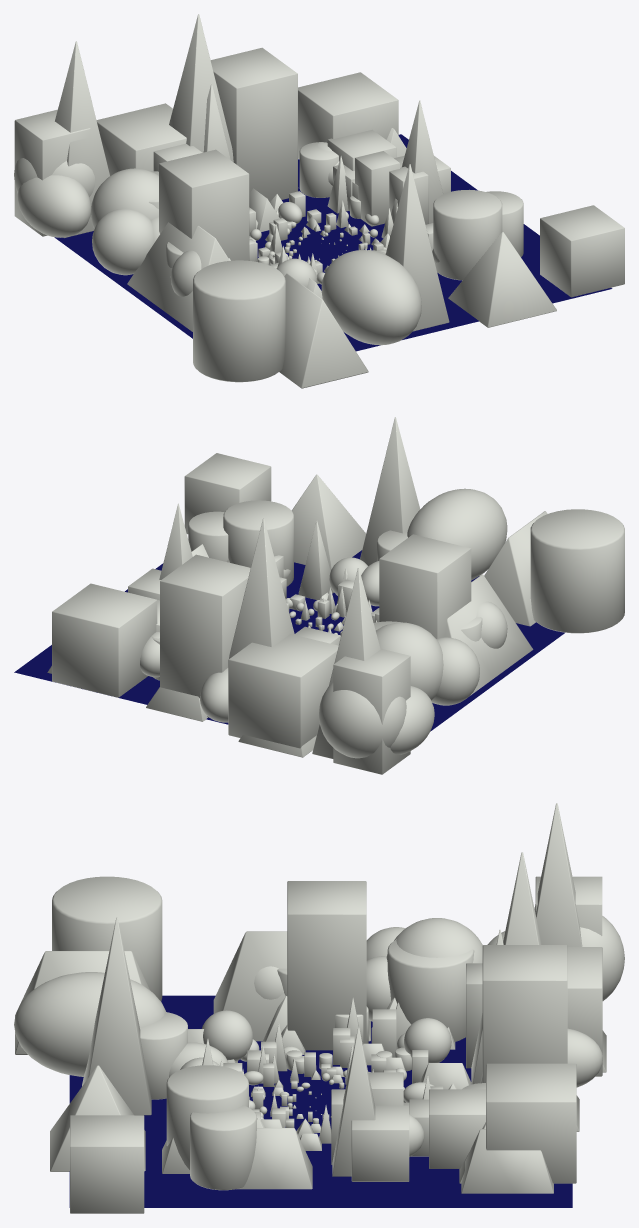
File: AbsShapes.fbx
The picture shows the model from 3 angles, top to bottom: view 1: azimuth 30°, elevation 25°; view 2: azimuth 150°, elevation 25°; view 3: azimuth 270°, elevation 25°; orthographic projection. The views are drawn at different scales.
Visible parts, largest first — view 1: Cylinder.022, Cube.095, Plane, Cube.130, Sphere.038, Cube.102, Cube.129, Cube.132, Cube.128, Cylinder.020, Cube.116, Cube.114 (+20 smaller); view 2: Cylinder.022, Cube.122, Cube.095, Cube.132, Cube.130, Sphere.038, Cube.120, Plane, Sphere.041, Cube.096, Cube.102, Cube.128 (+20 smaller); view 3: Plane, Cube.130, Cube.095, Cube.132, Cylinder.022, Sphere.038, Cube.102, Cube.116, Cylinder.021, Cylinder.023, Cube.114, Cylinder.020 (+29 smaller).
Boxes of the visible parts, <box> form: Cylinder.022: <box>193,260,285,382</box>; Cube.095: <box>210,47,297,201</box>; Plane: <box>54,134,612,351</box>; Cube.130: <box>159,149,249,260</box>; Sphere.038: <box>321,250,421,345</box>; Cube.102: <box>540,205,624,297</box>; Cube.129: <box>279,273,368,388</box>; Cube.132: <box>298,72,398,159</box>; Cube.128: <box>448,232,556,327</box>; Cylinder.020: <box>433,189,502,280</box>; Cube.116: <box>385,164,449,331</box>; Cube.114: <box>127,222,229,331</box>; Cylinder.022: <box>530,509,624,633</box>; Cube.122: <box>228,634,338,748</box>; Cube.095: <box>160,554,250,717</box>; Cube.132: <box>52,583,157,697</box>; Cube.130: <box>379,534,471,638</box>; Sphere.038: <box>407,488,507,580</box>; Cube.120: <box>333,648,410,774</box>; Plane: <box>14,550,564,731</box>; Sphere.041: <box>319,682,406,758</box>; Cube.096: <box>229,518,294,658</box>; Cube.102: <box>184,453,271,534</box>; Cube.128: <box>291,474,365,570</box>; Plane: <box>69,995,572,1207</box>; Cube.130: <box>287,881,366,1050</box>; Cube.095: <box>482,945,567,1082</box>; Cube.132: <box>486,1063,576,1183</box>; Cylinder.022: <box>52,876,162,1001</box>; Sphere.038: <box>14,972,165,1076</box>; Cube.102: <box>70,1115,144,1213</box>; Cube.116: <box>82,917,151,1115</box>; Cylinder.021: <box>387,939,474,1041</box>; Cylinder.023: <box>190,1105,256,1190</box>; Cube.114: <box>213,931,370,1041</box>; Cylinder.020: <box>166,1065,248,1169</box>.
Bounding box in the file's own units: 10584 × 4718 × 11468.
